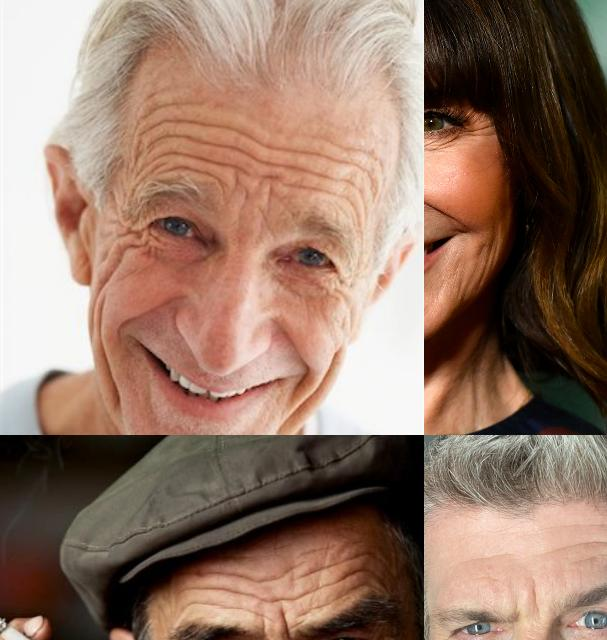crows_feet: (102, 218, 142, 262), (323, 274, 357, 314), (468, 114, 494, 138)
forehead: (143, 104, 243, 180), (269, 137, 367, 196), (561, 520, 607, 567), (300, 552, 338, 608), (250, 570, 290, 620), (185, 567, 241, 601), (346, 544, 382, 594), (459, 550, 519, 568)
frown_line: (524, 578, 542, 622), (276, 609, 299, 640), (236, 186, 253, 220)
gummy_smile: (275, 322, 313, 368), (122, 294, 180, 322), (424, 190, 458, 224)
masseter: (90, 294, 122, 396), (465, 233, 497, 291), (312, 347, 341, 408)
sad_smile: (288, 370, 310, 410)
